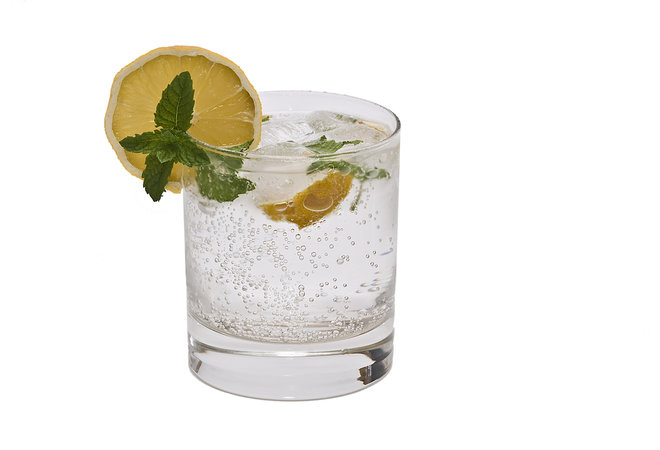glass of water: (178, 85, 402, 403)
